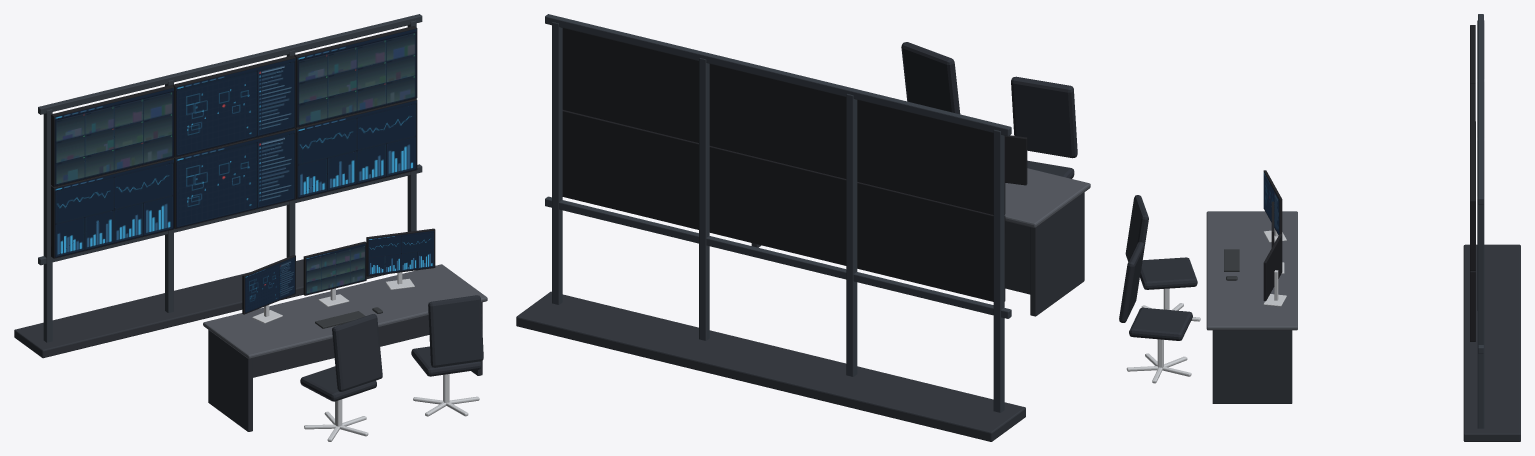
File: control-room.glb
The picture shows the model from 3 angles, left to right: view 1: azimuth 30°, elevation 25°; view 2: azimuth 150°, elevation 25°; view 3: azimuth 270°, elevation 25°; orthographic projection. The views are drawn at different scales.
Visible parts, largest first — view 1: ControlRoom_Desk_Body, ControlRoom_Desk_Top, ControlRoom_Wall_Frame, ControlRoom_Chair_Fabric, ControlRoom_Screen_1, ControlRoom_Screen_2, ControlRoom_Screen_4, ControlRoom_Screen_5, ControlRoom_Screen_0, ControlRoom_Screen_3, ControlRoom_Screen_Bezel, ControlRoom_MonitorScreen_2 (+4 smaller); view 2: ControlRoom_Screen_Bezel, ControlRoom_Desk_Body, ControlRoom_Wall_Frame, ControlRoom_Chair_Fabric, ControlRoom_Desk_Top; view 3: ControlRoom_Desk_Body, ControlRoom_Desk_Top, ControlRoom_Chair_Fabric, ControlRoom_Wall_Frame, ControlRoom_Screen_Bezel, ControlRoom_Chrome, ControlRoom_MonitorScreen_0, ControlRoom_Keyboard.
Boxes of the visible parts, box(x1,y1,x2,y2) form: ControlRoom_Desk_Body: box(14, 259, 482, 431); ControlRoom_Desk_Top: box(203, 264, 487, 358); ControlRoom_Wall_Frame: box(38, 14, 422, 342); ControlRoom_Chair_Fabric: box(300, 295, 483, 401); ControlRoom_Screen_1: box(176, 58, 295, 156); ControlRoom_Screen_2: box(297, 28, 416, 126); ControlRoom_Screen_4: box(176, 130, 295, 228); ControlRoom_Screen_5: box(297, 100, 416, 198); ControlRoom_Screen_0: box(54, 88, 173, 186); ControlRoom_Screen_3: box(54, 159, 173, 257); ControlRoom_Screen_Bezel: box(51, 26, 435, 314); ControlRoom_MonitorScreen_2: box(368, 231, 434, 275); ControlRoom_Screen_Bezel: box(562, 28, 1027, 301); ControlRoom_Desk_Body: box(516, 192, 1084, 441); ControlRoom_Wall_Frame: box(545, 14, 1011, 412); ControlRoom_Chair_Fabric: box(901, 42, 1077, 178); ControlRoom_Desk_Top: box(1004, 168, 1090, 227); ControlRoom_Desk_Body: box(1212, 244, 1520, 441); ControlRoom_Desk_Top: box(1206, 211, 1297, 330); ControlRoom_Chair_Fabric: box(1119, 195, 1197, 340); ControlRoom_Wall_Frame: box(1477, 14, 1484, 428); ControlRoom_Screen_Bezel: box(1263, 25, 1475, 341); ControlRoom_Chrome: box(1126, 228, 1286, 383); ControlRoom_MonitorScreen_0: box(1263, 172, 1279, 234); ControlRoom_Keyboard: box(1224, 249, 1239, 280).
Bounding box in the file's own units: 3.93 × 2.33 × 3.52.
Materials: 16 (9 with a texture image).
